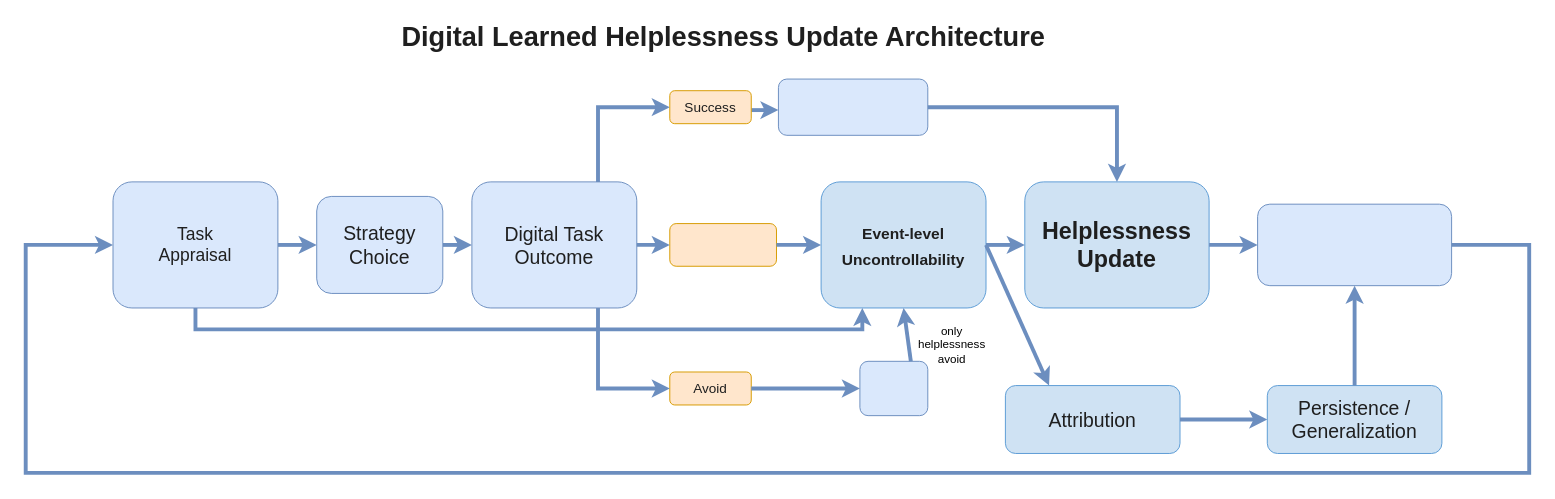
This 1555x499 diagram has some shape labels left out. The shapes that lost their labels are listed below. From the top down, each one's centre as x and y in pixels, then its label:
At pixel 852 106: "Recovery (only controllable)".
At pixel 722 244: "Failure / Abandon".
At pixel 1354 244: "Memory / Next Round".
At pixel 893 388: "Avoid Reason".
